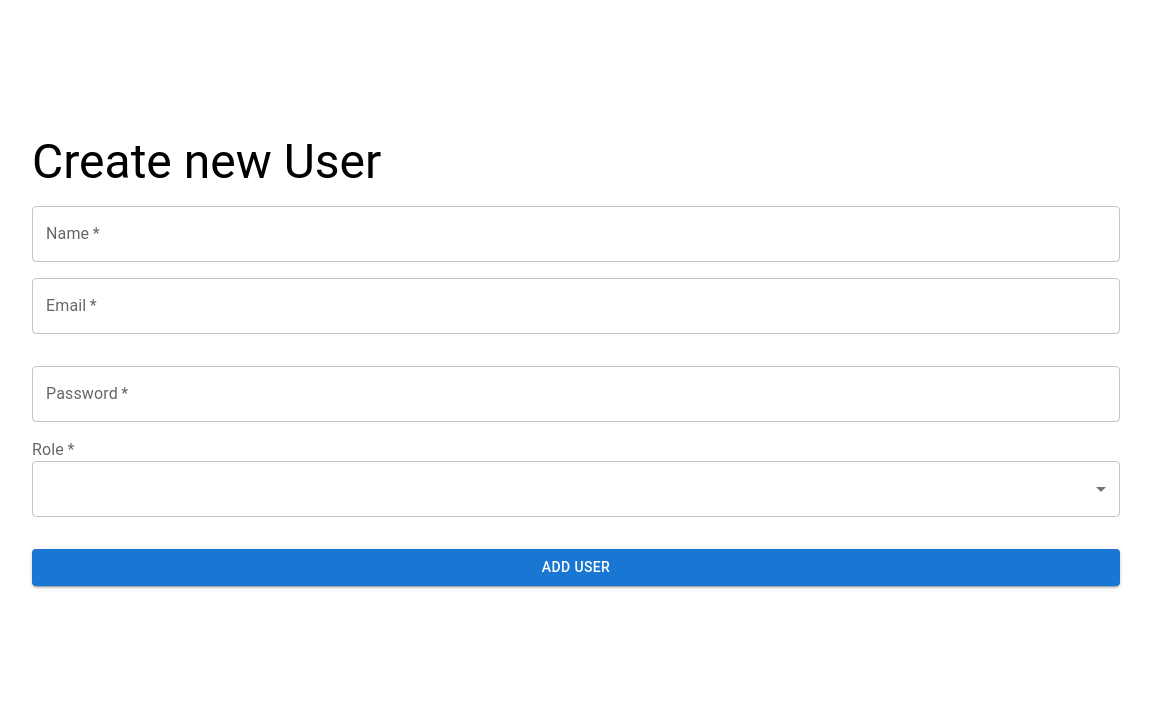
Test: AddUserFormMittel Component › should display error when email is already taken
In the field labelled "Email *": (576, 306) [32,278,1120,334], type "john@example.com"
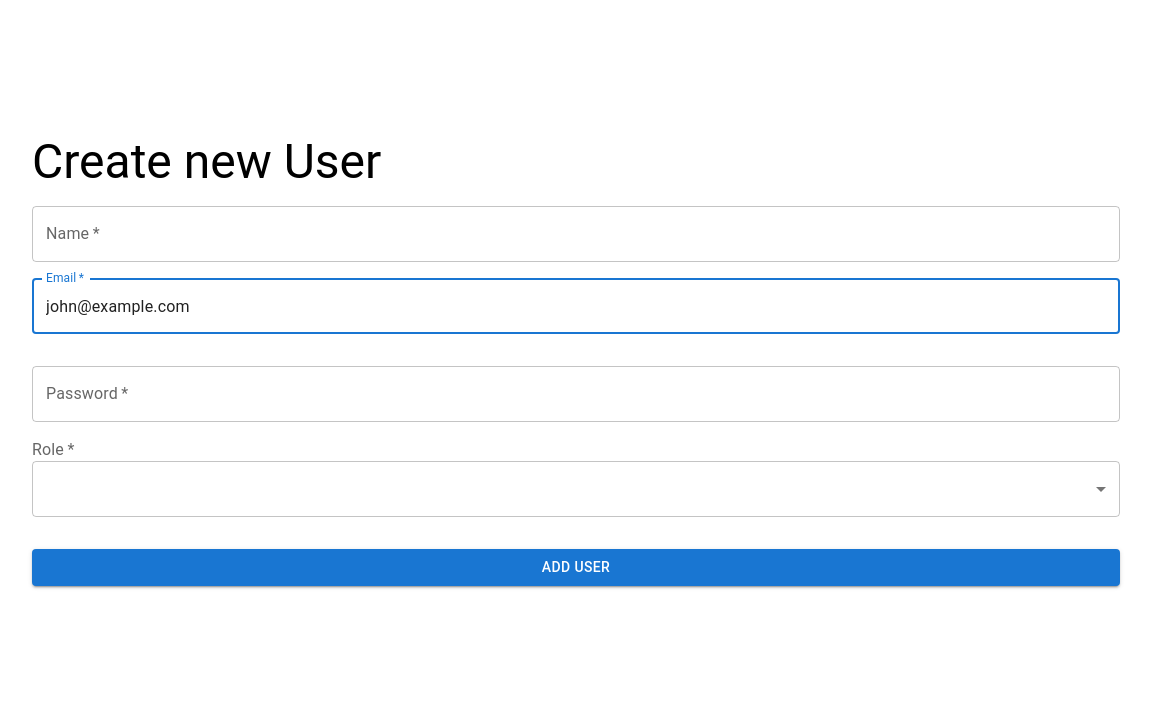
Click the button "Add User": (576, 568) [32,549,1120,586]
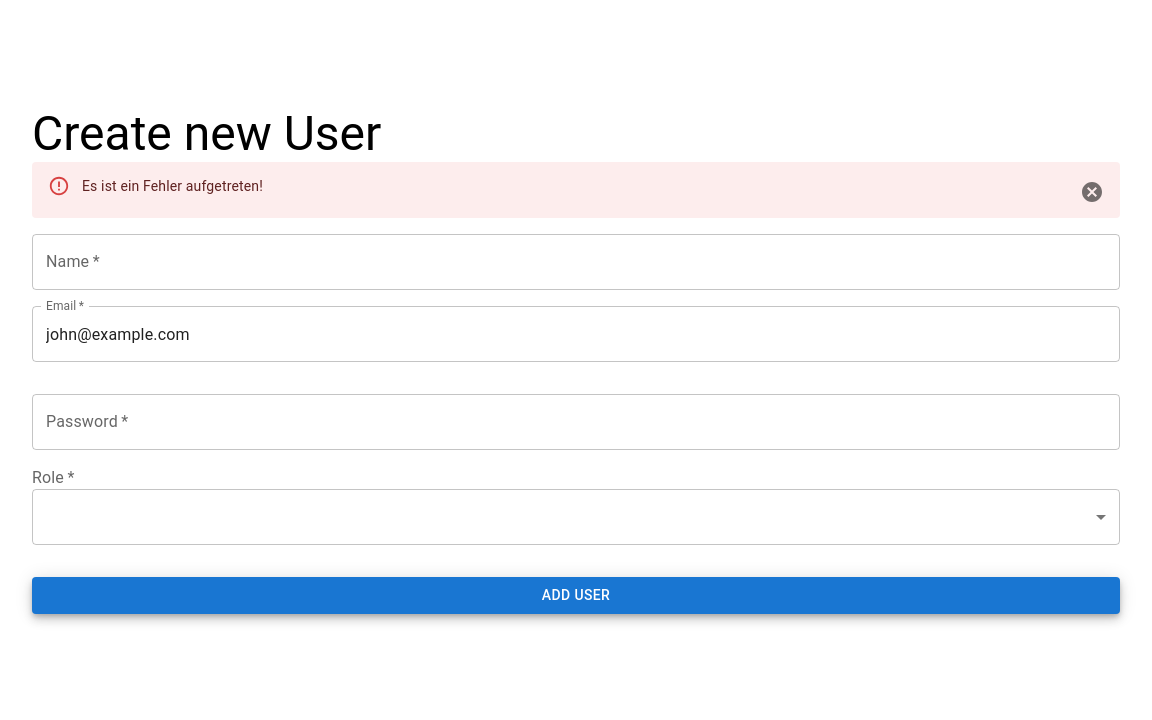
Now the text "Es ist ein Fehler aufgetreten!" is shown, box [82,178,263,194]
